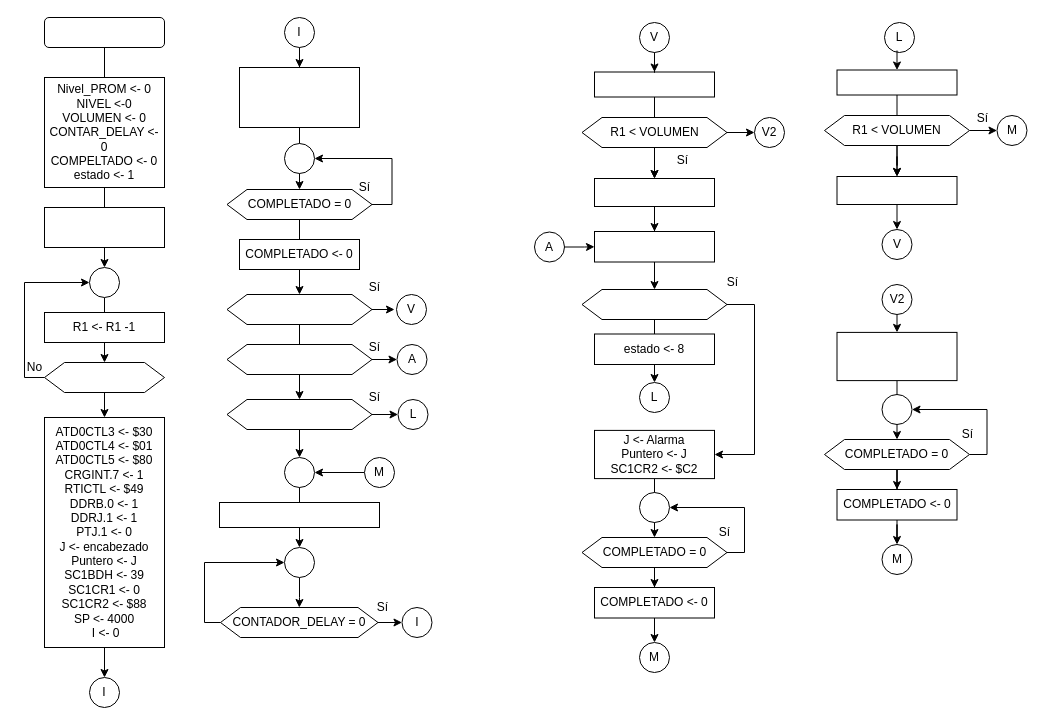
This 1045x725 diagram has some shape labels left out. The shapes that lost their labels are listed below. From the top down, each one's box as (x1, y1, x2, y2) in pixels, then its label:
(44, 16, 164, 48): MAIN
(238, 66, 360, 128): J <- encabezado Puntero <- J SC1CR2 <- $88
(594, 71, 714, 97): R1 <- P15
(836, 69, 957, 95): R1 <- P90
(594, 178, 714, 206): estado <- 2
(836, 176, 957, 204): estado <- 1
(44, 206, 164, 248): ATD0CTL2 <- $C2 R1 <- 160
(594, 230, 714, 262): R1 <- P30
(226, 294, 372, 324): estado.0 = 1
(581, 288, 727, 320): R1 > VOLUMEN
(226, 344, 372, 374): estado.1 = 1
(836, 331, 957, 381): J <- Vaciado Puntero <- J SC1CR2 <- $88
(44, 362, 164, 392): R1 = 0
(226, 398, 372, 430): estado.3 = 1
(218, 502, 380, 528): CONTADOR_DELAY <-100
